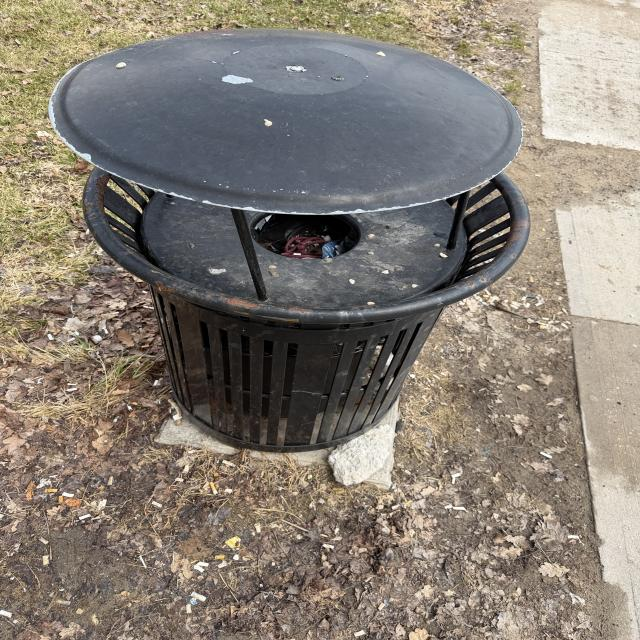Dustbin: (47, 29, 532, 452)
